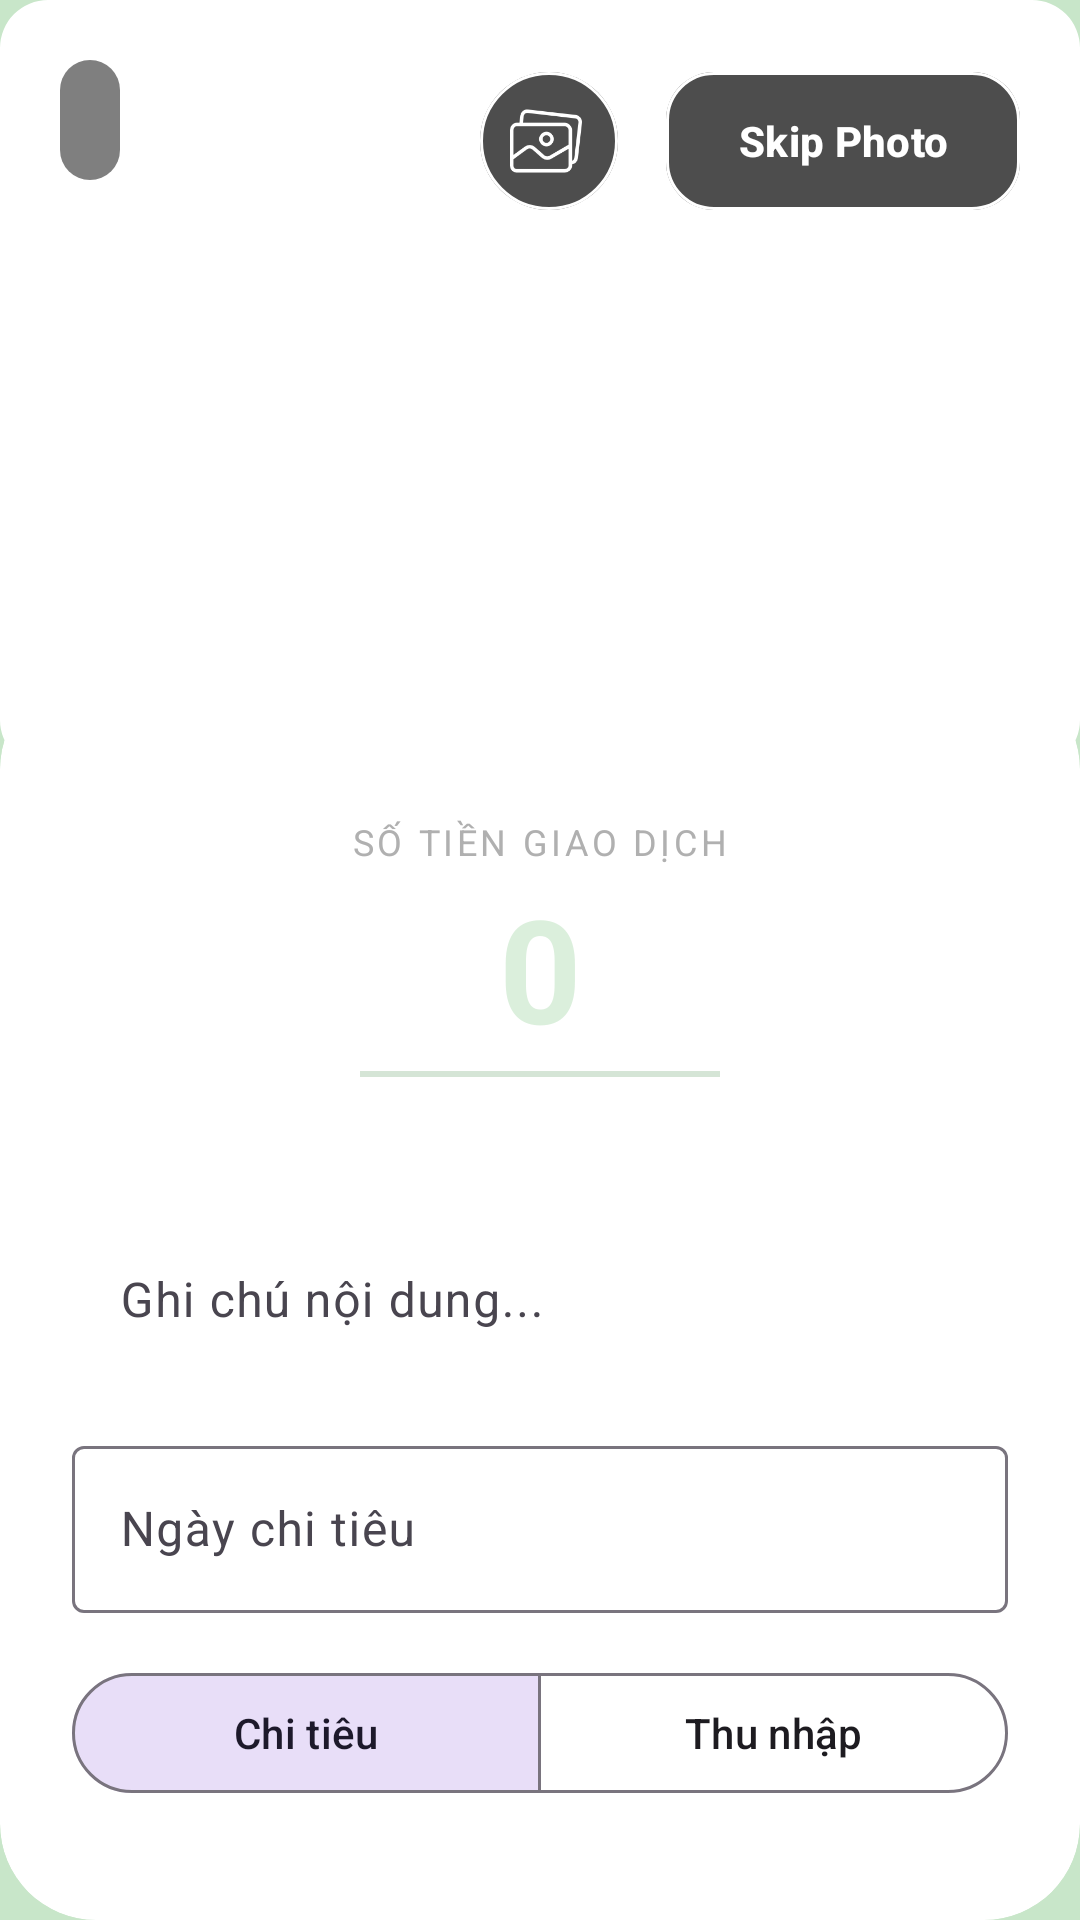

Icons on this 1080px×1920px Android screen, each with the point to tap as (x=x, y=y):
gallery: (x=549, y=141)
